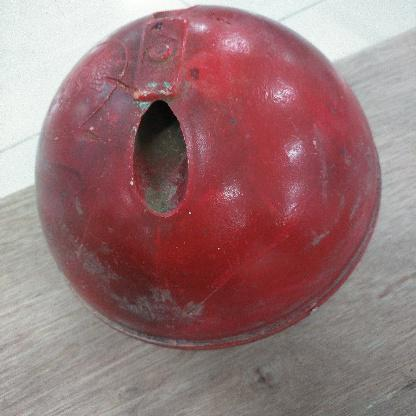red_buoy: (34, 6, 384, 355)
